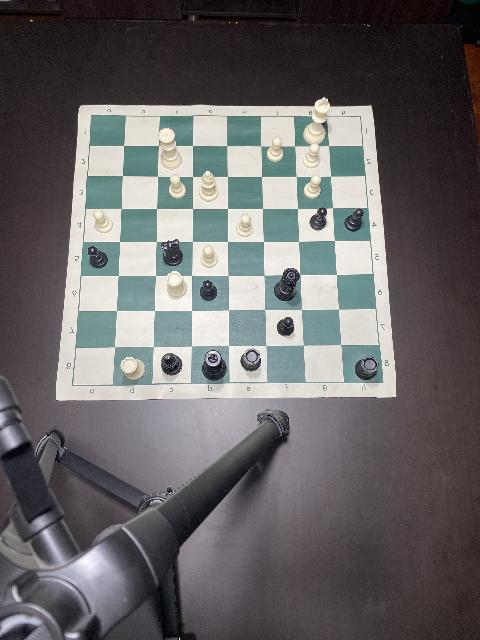black-bishop: (161, 353, 183, 377)
black-king: (202, 350, 227, 380)
black-knight: (161, 239, 183, 267)
black-pawn: (308, 207, 328, 231), (344, 208, 364, 230), (88, 246, 108, 268), (276, 316, 294, 338), (200, 280, 216, 302)
black-queen: (273, 267, 299, 301)
black-rook: (354, 356, 378, 382), (239, 348, 261, 372)
board: (55, 106, 397, 400)
white-bishop: (199, 172, 219, 202)
white-king: (302, 96, 330, 144)
white-pawn: (93, 209, 113, 233), (266, 136, 284, 162), (304, 174, 322, 200), (168, 174, 186, 200), (302, 144, 320, 168), (200, 245, 218, 267), (236, 215, 253, 238)
white-queen: (160, 128, 184, 168)
white-rook: (120, 356, 146, 382), (165, 271, 187, 299)
